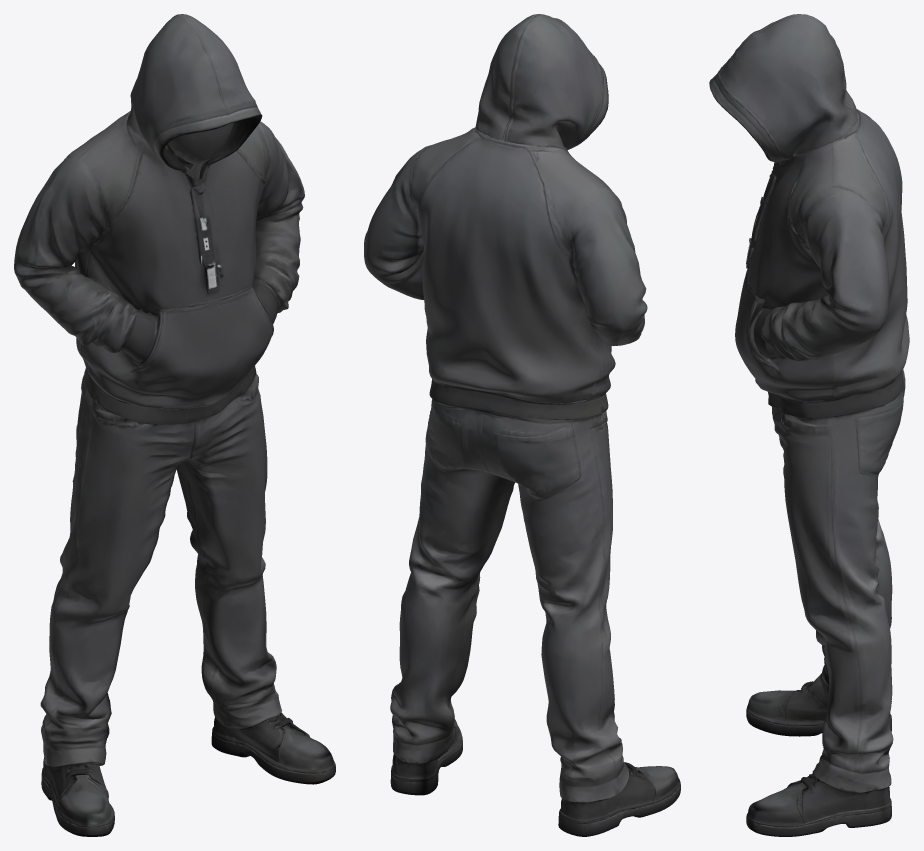
The model's file is fence.glb.
3 renders of one model, left to right at view 1: azimuth 30°, elevation 25°; view 2: azimuth 150°, elevation 25°; view 3: azimuth 270°, elevation 25°, orthographic. The views are drawn at different scales.
Visible parts, largest first — view 1: tripo_node_5eb8c592-be54-4a5a-9eda-ac76d6f88018; view 2: tripo_node_5eb8c592-be54-4a5a-9eda-ac76d6f88018; view 3: tripo_node_5eb8c592-be54-4a5a-9eda-ac76d6f88018.
Part boxes in pixels (x1,y1,x2,y2): tripo_node_5eb8c592-be54-4a5a-9eda-ac76d6f88018: [14, 14, 335, 836]; tripo_node_5eb8c592-be54-4a5a-9eda-ac76d6f88018: [364, 14, 680, 836]; tripo_node_5eb8c592-be54-4a5a-9eda-ac76d6f88018: [709, 14, 909, 836].
Size of the model in its own units: 0.3724 by 0.9795 by 0.2338.
Materials: 1 (1 with a texture image).
